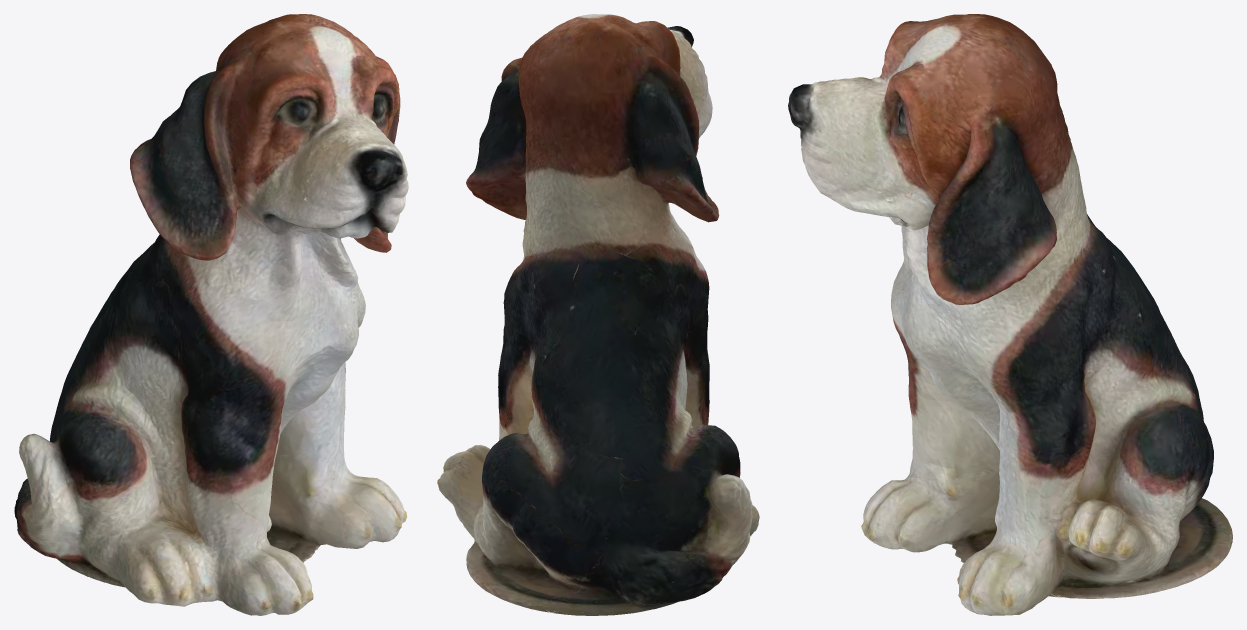
Rendered from chien_beagle.glb.
3 views of the same model, side by side, from view 1: azimuth 30°, elevation 25°; view 2: azimuth 150°, elevation 25°; view 3: azimuth 270°, elevation 25° (orthographic). The views are drawn at different scales.
Visible parts, largest first — view 1: Object_2; view 2: Object_2; view 3: Object_2.
Boxes of the visible parts, bbox=[...] form: Object_2: bbox=[14, 14, 408, 615]; Object_2: bbox=[437, 14, 759, 615]; Object_2: bbox=[788, 14, 1232, 615].
Size of the model in its own units: 0.1375 by 0.2164 by 0.1607.
1 material, 1 textured.
